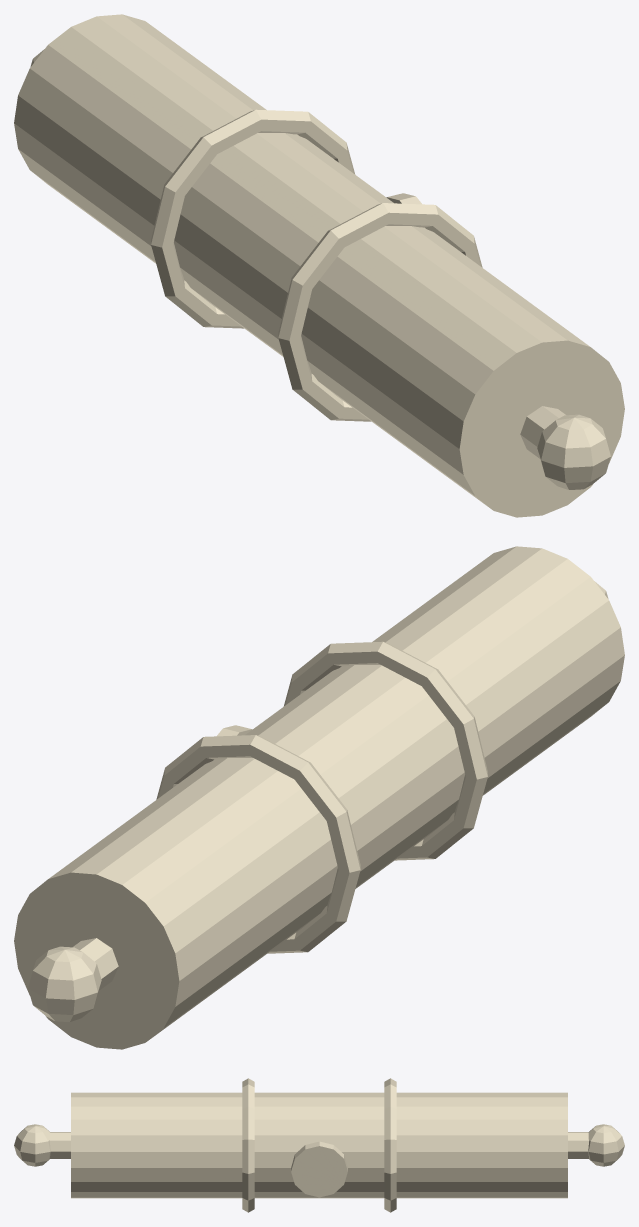
Rendered from scroll_rolled.fbx.
3 views of the same model, one above another, from view 1: azimuth 30°, elevation 25°; view 2: azimuth 150°, elevation 25°; view 3: azimuth 270°, elevation 25° (orthographic). The views are drawn at different scales.
Parts seen in each view (by area): view 1: scroll_rolled; view 2: scroll_rolled; view 3: scroll_rolled.
Boxes of the visible parts, x1,y1,x2,y2 form: scroll_rolled: [14, 14, 624, 517]; scroll_rolled: [14, 546, 624, 1049]; scroll_rolled: [14, 1078, 624, 1212].
Bounding box in the file's own units: 0.038 × 0.038 × 0.172.
